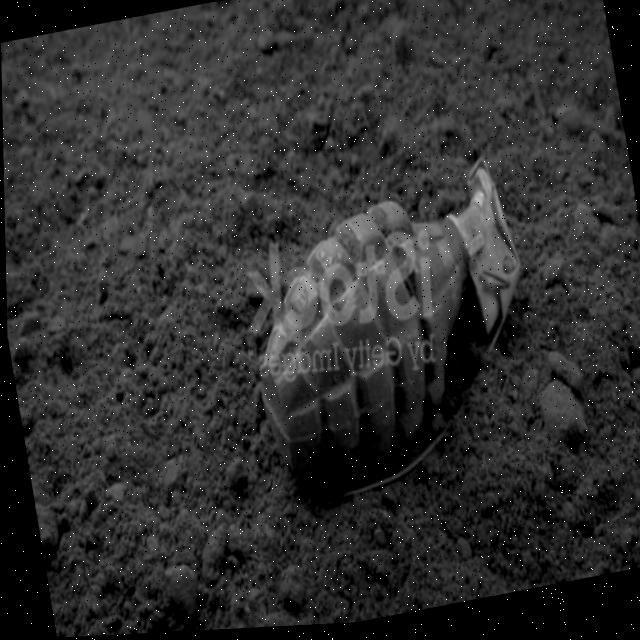grenade: (215, 125, 562, 523)
